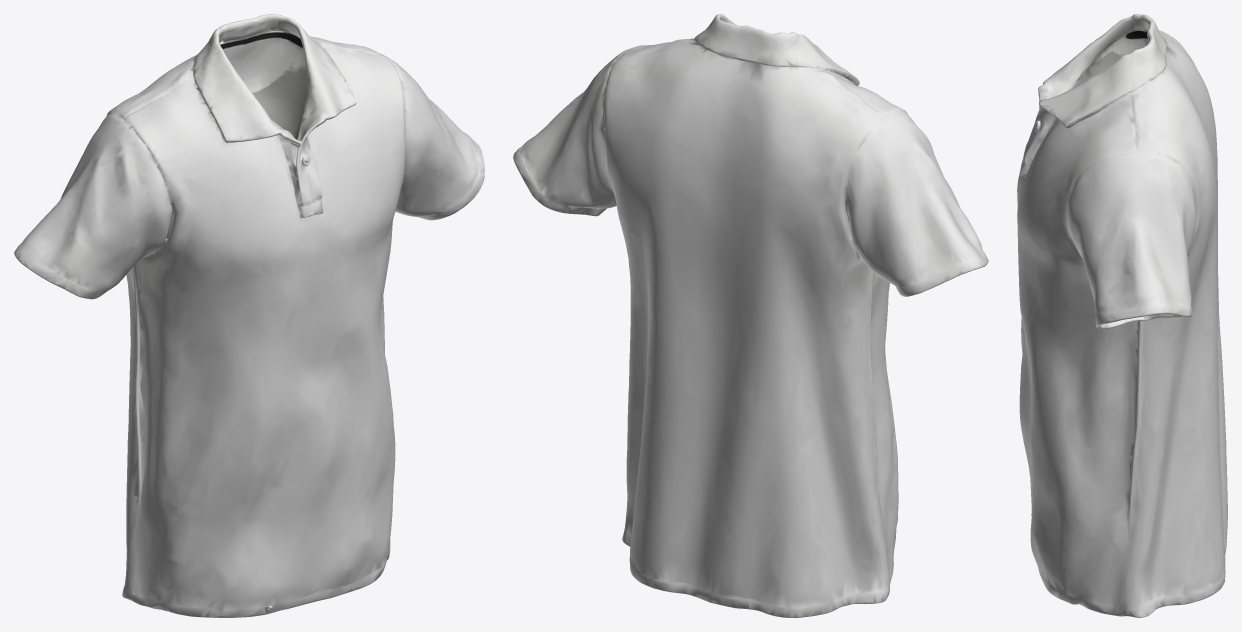
3 views of the same model, side by side, from view 1: azimuth 30°, elevation 25°; view 2: azimuth 150°, elevation 25°; view 3: azimuth 270°, elevation 25° (orthographic). The views are drawn at different scales.
Visible parts, largest first — view 1: tripo_node_c4952019-204d-4f76-b29c-26394b56ac2e; view 2: tripo_node_c4952019-204d-4f76-b29c-26394b56ac2e; view 3: tripo_node_c4952019-204d-4f76-b29c-26394b56ac2e.
Part boxes in pixels (x1=…): tripo_node_c4952019-204d-4f76-b29c-26394b56ac2e: x1=14, y1=14, x2=484, y2=617; tripo_node_c4952019-204d-4f76-b29c-26394b56ac2e: x1=513, y1=14, x2=988, y2=617; tripo_node_c4952019-204d-4f76-b29c-26394b56ac2e: x1=1017, y1=14, x2=1227, y2=617.
Bounding box in the file's own units: 0.885 × 0.9998 × 0.3608.
Materials: 1 (1 with a texture image).
